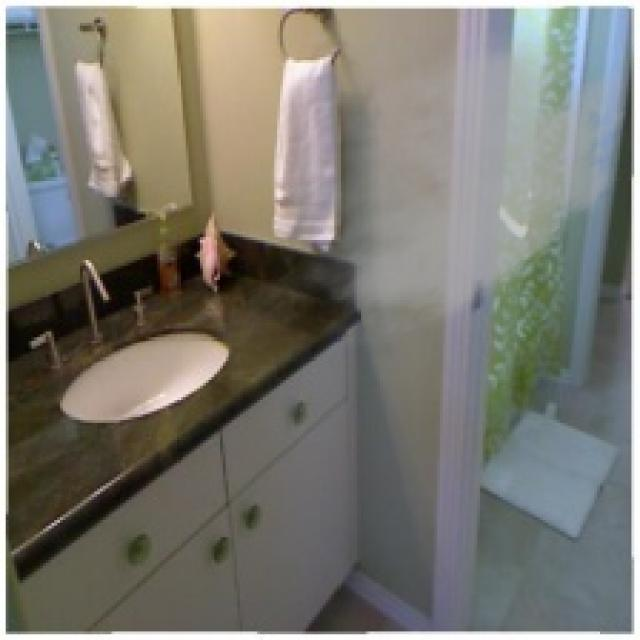Smoke: (248, 14, 638, 360)
